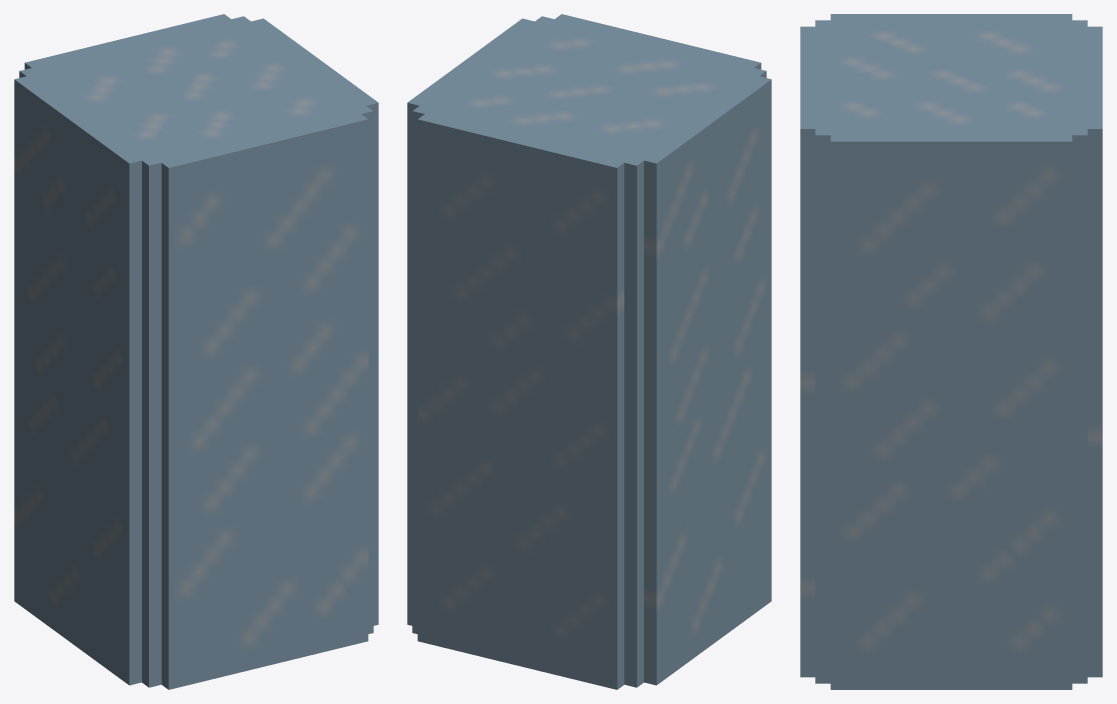
The model's file is block_stone_center.dae.
3 views of the same model, side by side, from view 1: azimuth 30°, elevation 25°; view 2: azimuth 150°, elevation 25°; view 3: azimuth 270°, elevation 25° (orthographic). The views are drawn at different scales.
Visible parts, largest first — view 1: block_stone_center; view 2: block_stone_center; view 3: block_stone_center.
Boxes of the visible parts, bbox=[...] form: block_stone_center: bbox=[14, 14, 378, 689]; block_stone_center: bbox=[407, 14, 771, 689]; block_stone_center: bbox=[800, 14, 1102, 689].
Size of the model in its own units: 2 by 2 by 4.
Materials: 1 (1 with a texture image).
